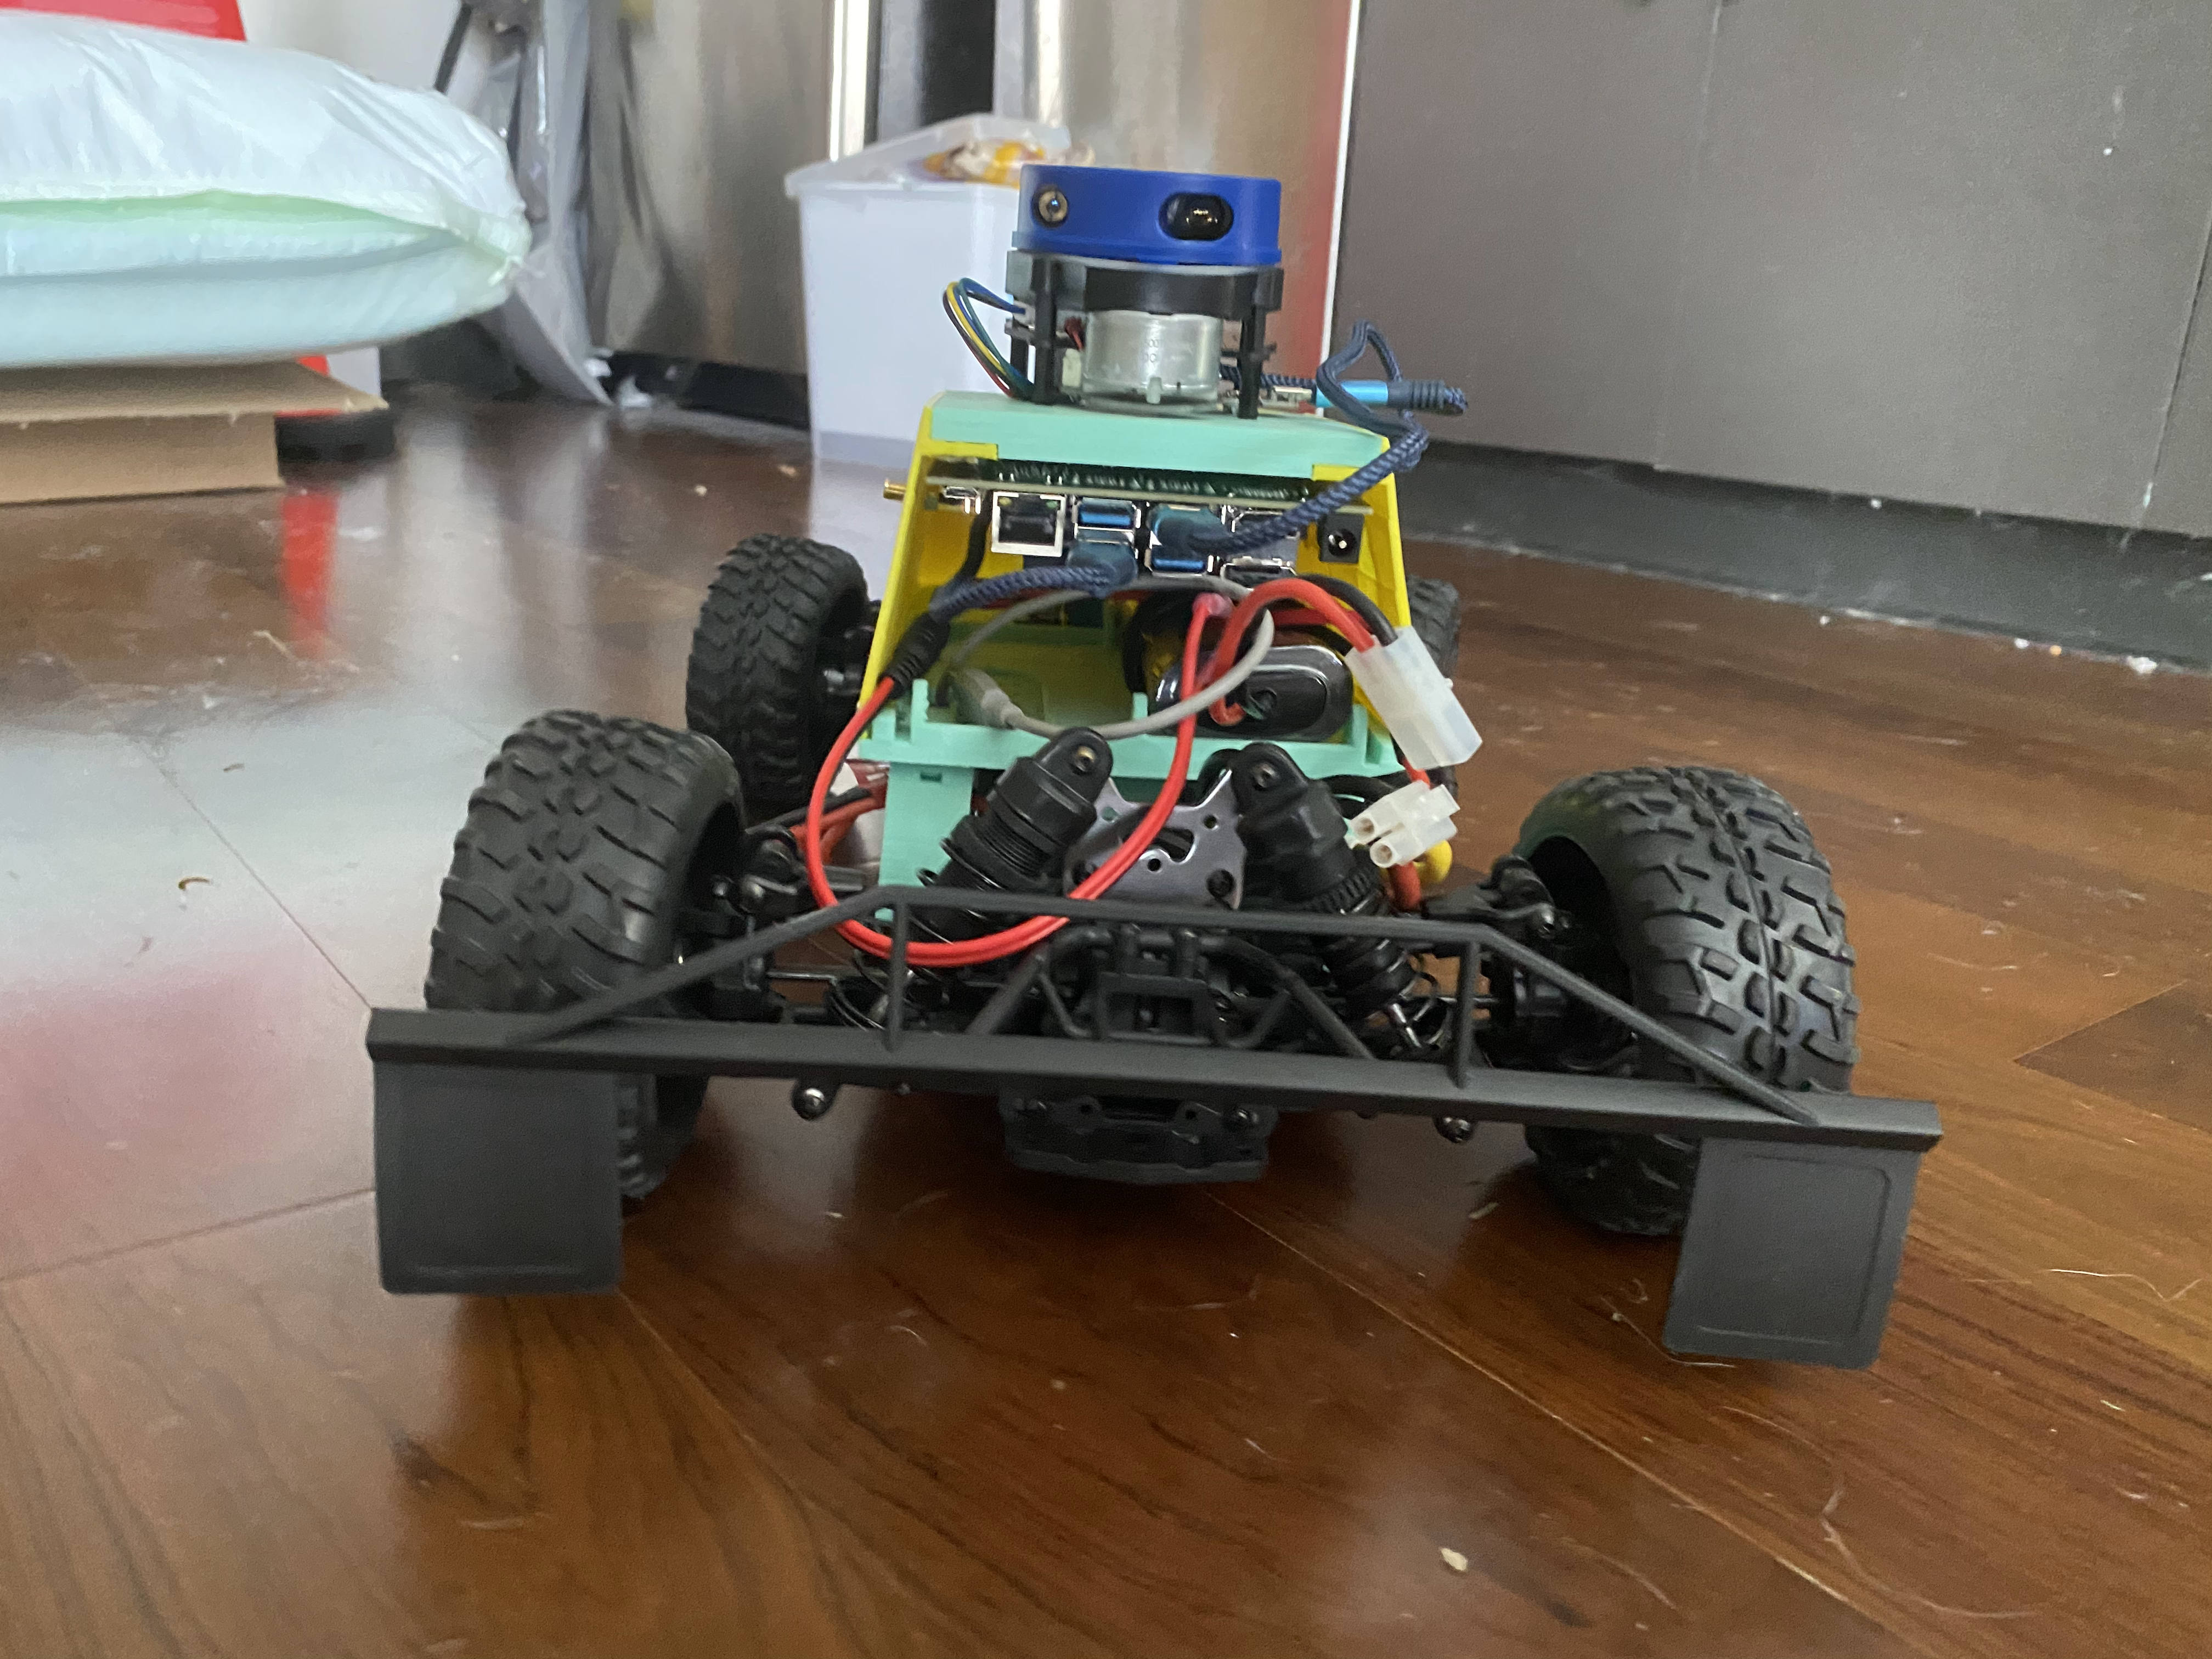mushr_car: (338, 122, 1956, 1410)
